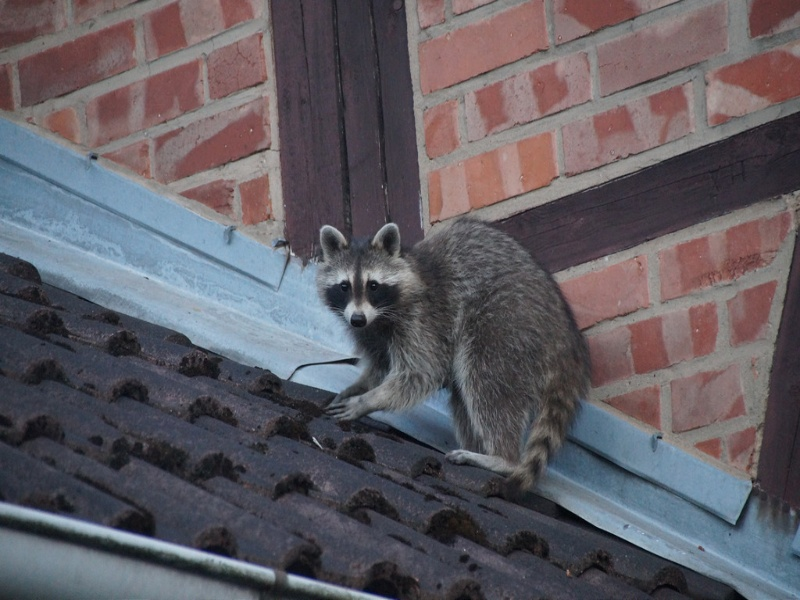raccoon: (306, 216, 595, 501)
